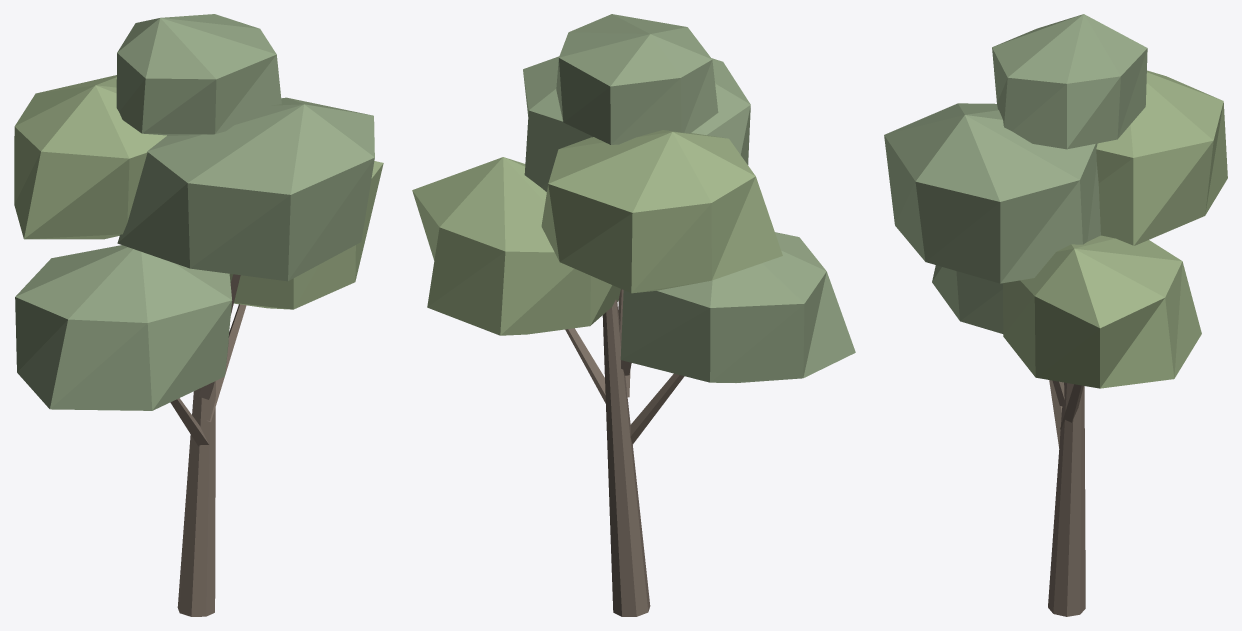
The model's file is beech.glb.
The picture shows the model from 3 angles, left to right: view 1: azimuth 30°, elevation 25°; view 2: azimuth 150°, elevation 25°; view 3: azimuth 270°, elevation 25°; orthographic projection. The views are drawn at different scales.
Size of the model in its own units: 13.27 by 19.29 by 10.33.
